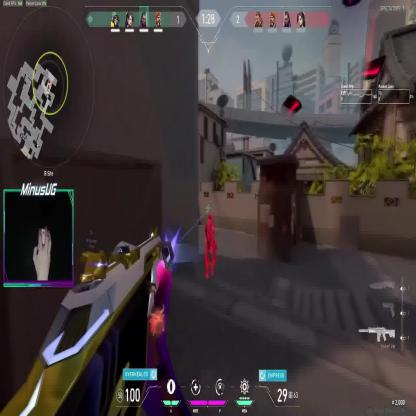enemy: (204, 214, 218, 279)
enemy_head: (208, 214, 213, 224)
